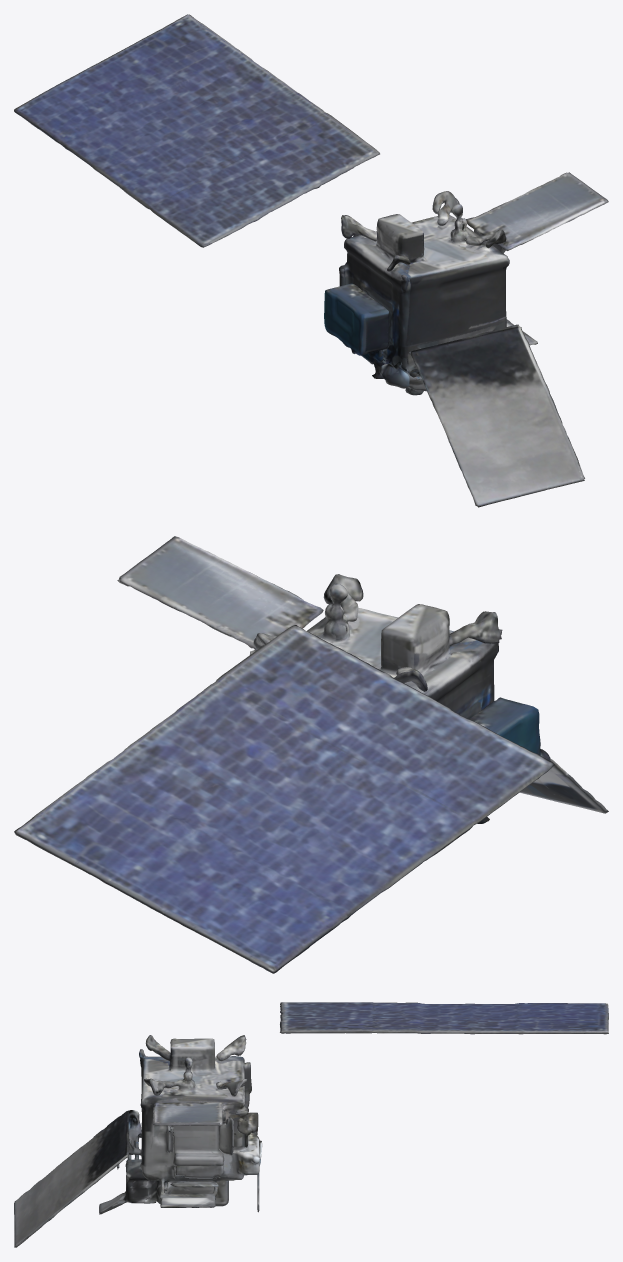
Rendered from PACE.glb.
3 views of the same model, one above another, from view 1: azimuth 30°, elevation 25°; view 2: azimuth 150°, elevation 25°; view 3: azimuth 270°, elevation 25° (orthographic). The views are drawn at different scales.
Size of the model in its own units: 1.11 by 0.7293 by 2.
1 material, 1 textured.
